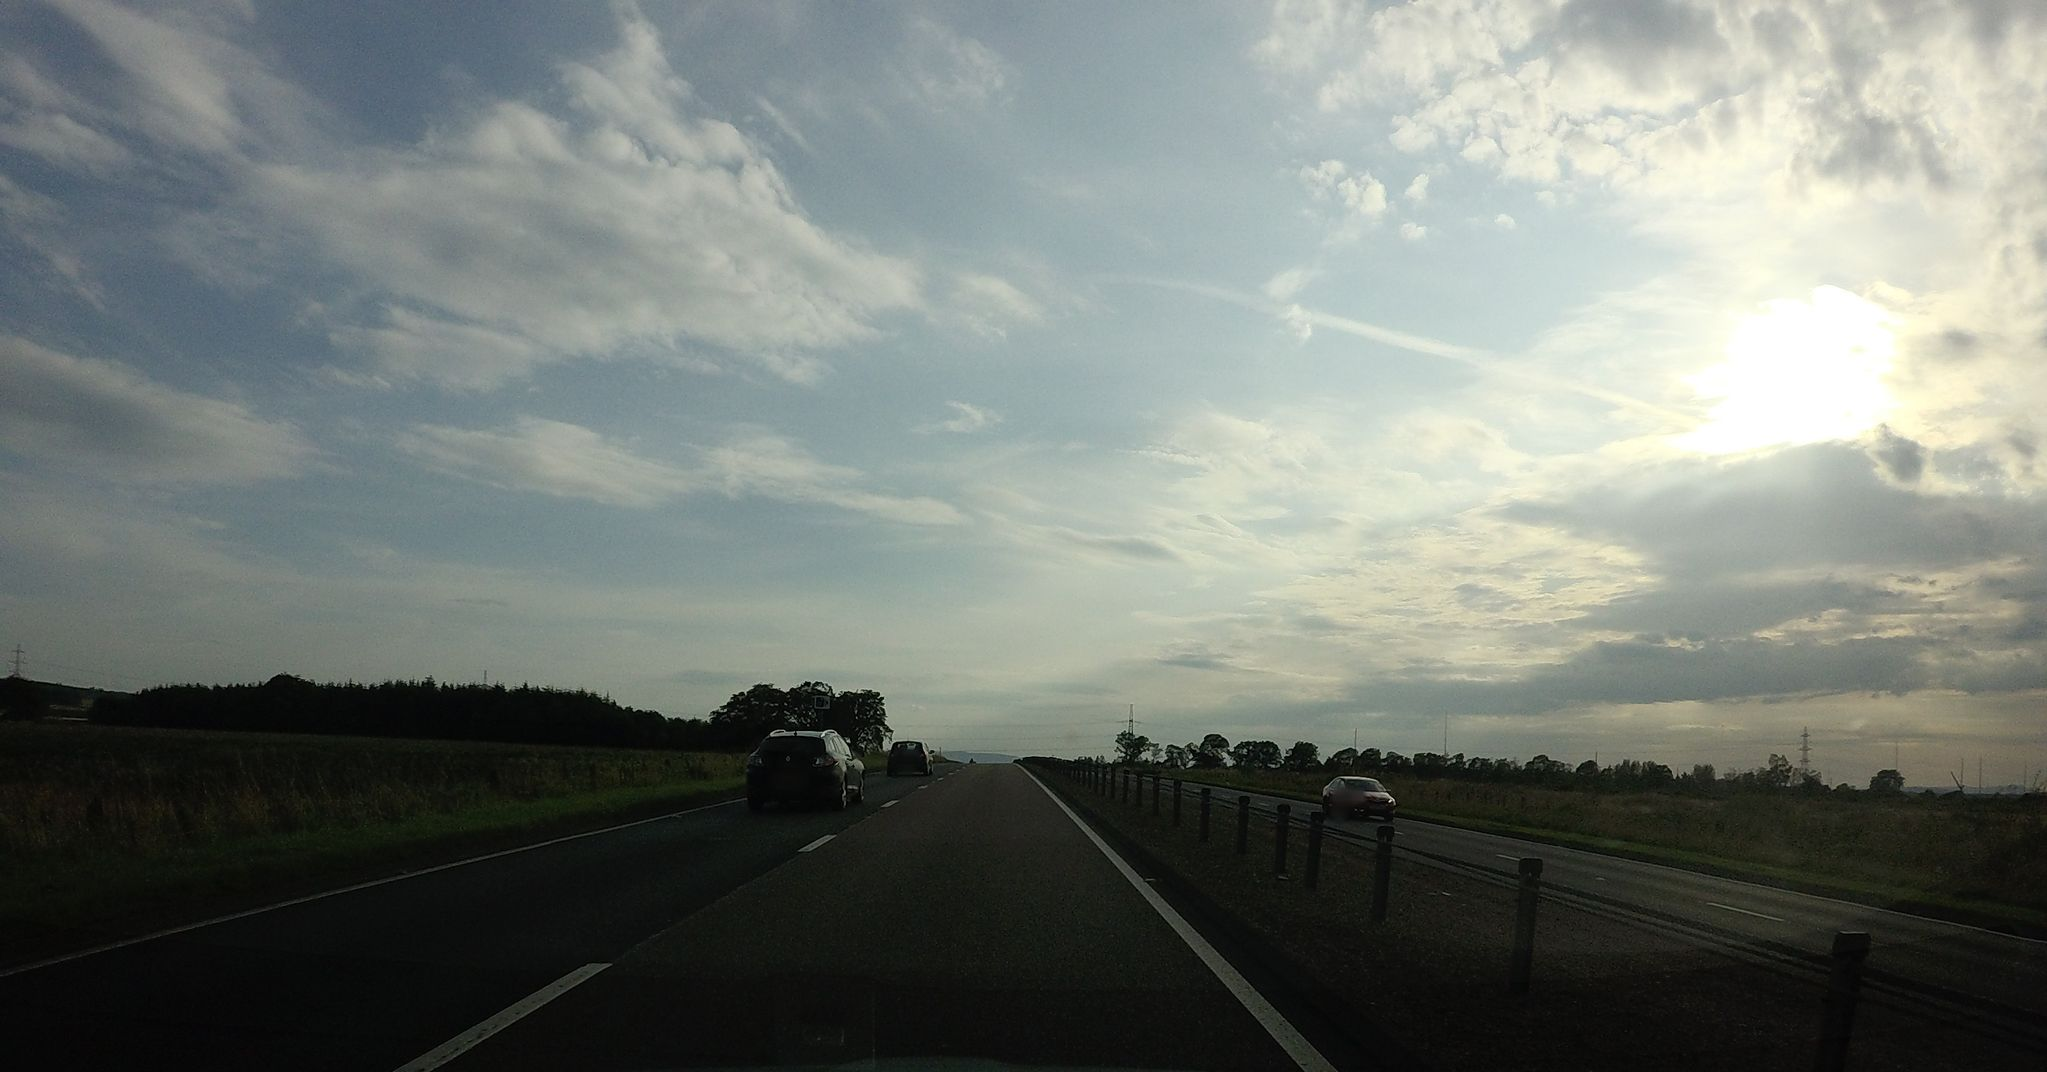car: (745, 728, 866, 809), (1321, 776, 1396, 822), (885, 740, 936, 774)
